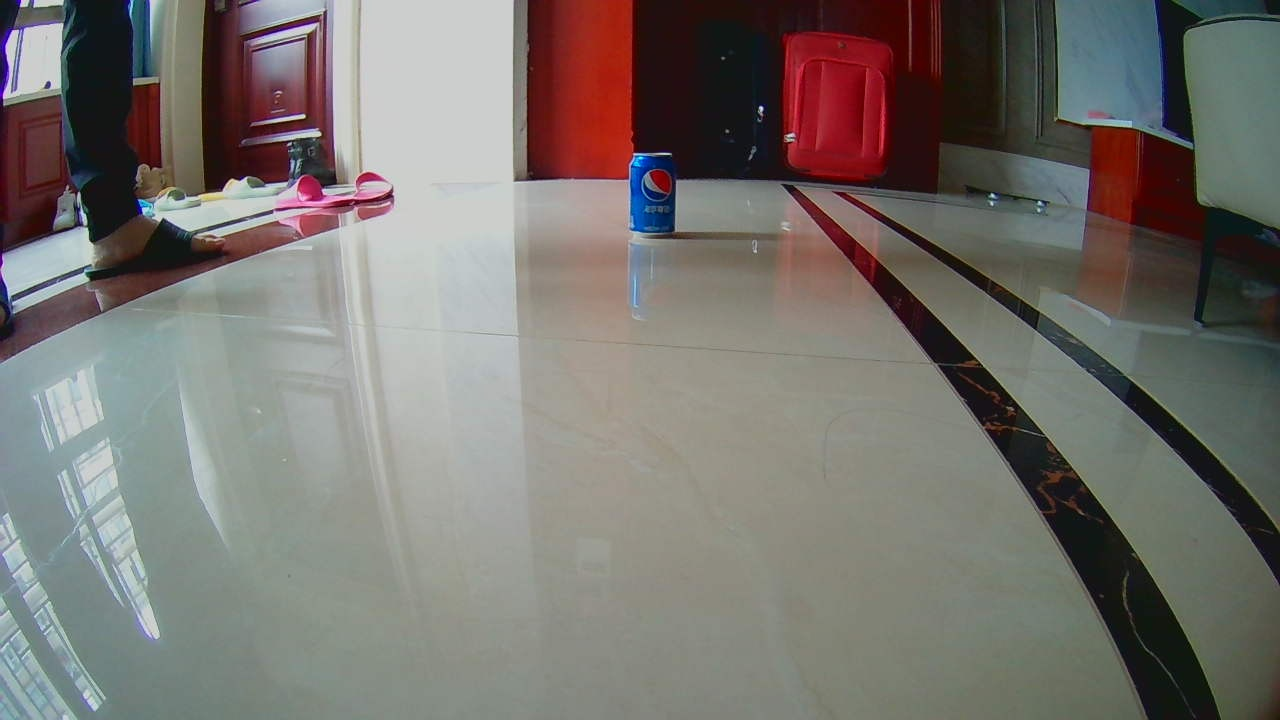pessi: (624, 152, 675, 234)
